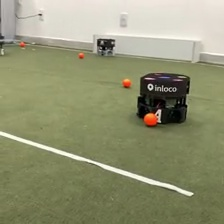ball: (142, 110, 159, 127), (121, 77, 133, 89), (77, 50, 85, 59), (18, 39, 25, 47)
goal: (92, 32, 202, 64)
robot: (135, 70, 193, 127), (96, 35, 117, 58)
